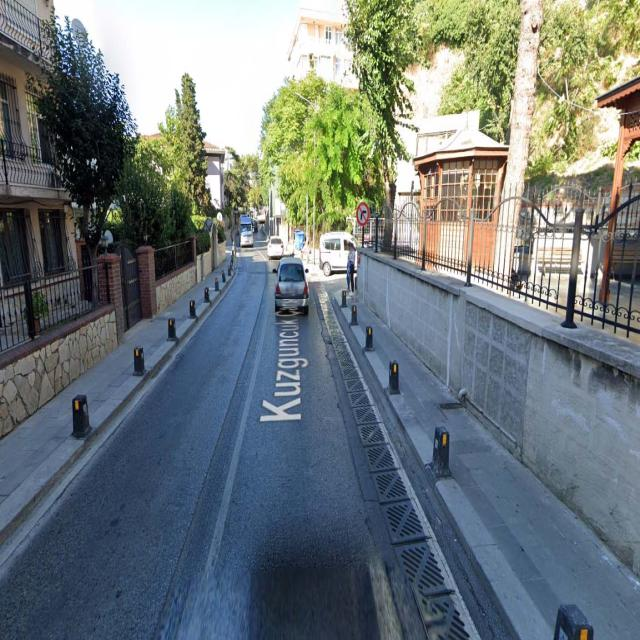sagadonulmez: (357, 202, 369, 227)
